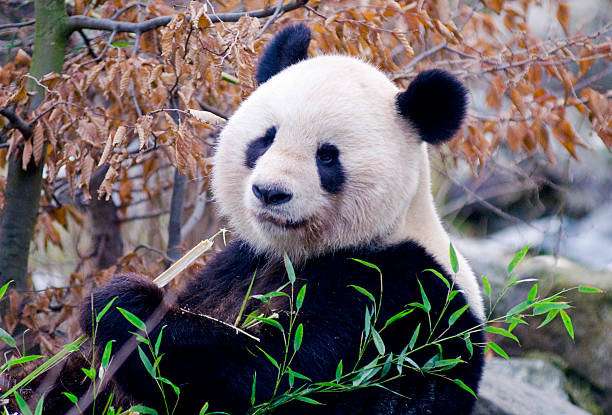panda: (171, 20, 486, 294)
